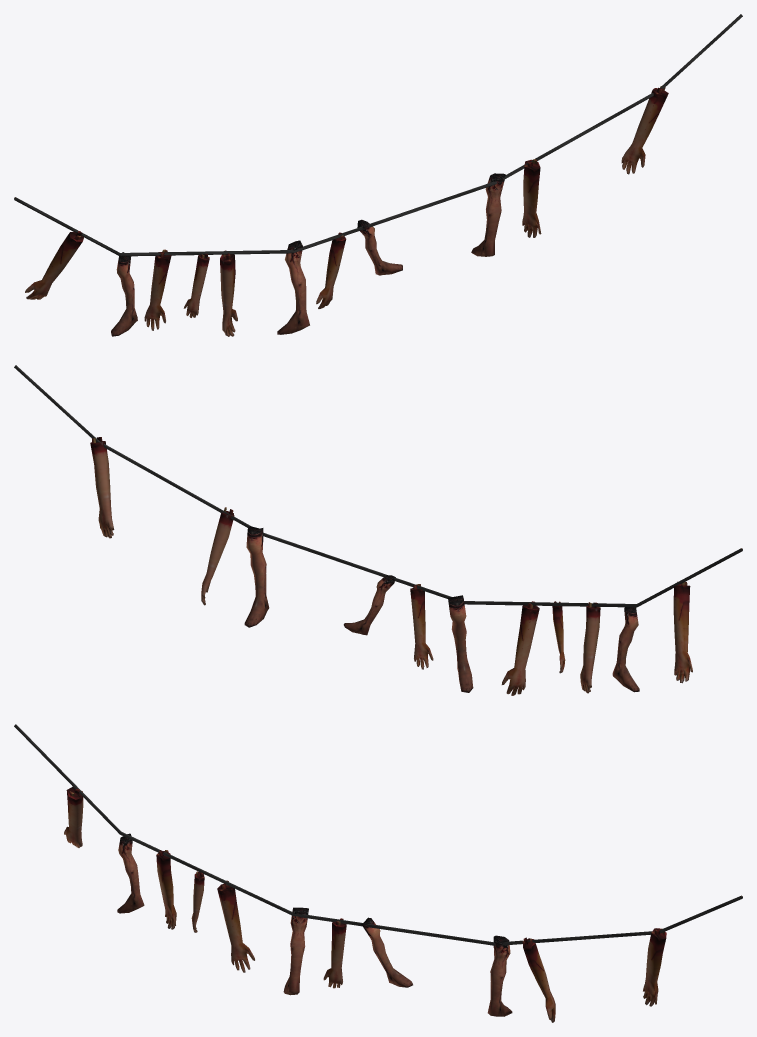
Rendered from human_decorations.FBX.
3 renders of one model, top to bottom at view 1: azimuth 30°, elevation 25°; view 2: azimuth 150°, elevation 25°; view 3: azimuth 330°, elevation 25°, orthographic.
Visible parts, largest first — view 1: human_decorations; view 2: human_decorations; view 3: human_decorations.
Part boxes in pixels (x1,y1,x2,y2): human_decorations: (14,14,742,336); human_decorations: (14,365,742,695); human_decorations: (14,724,742,1022).
Size of the model in its own units: 521 by 145 by 38.44.
